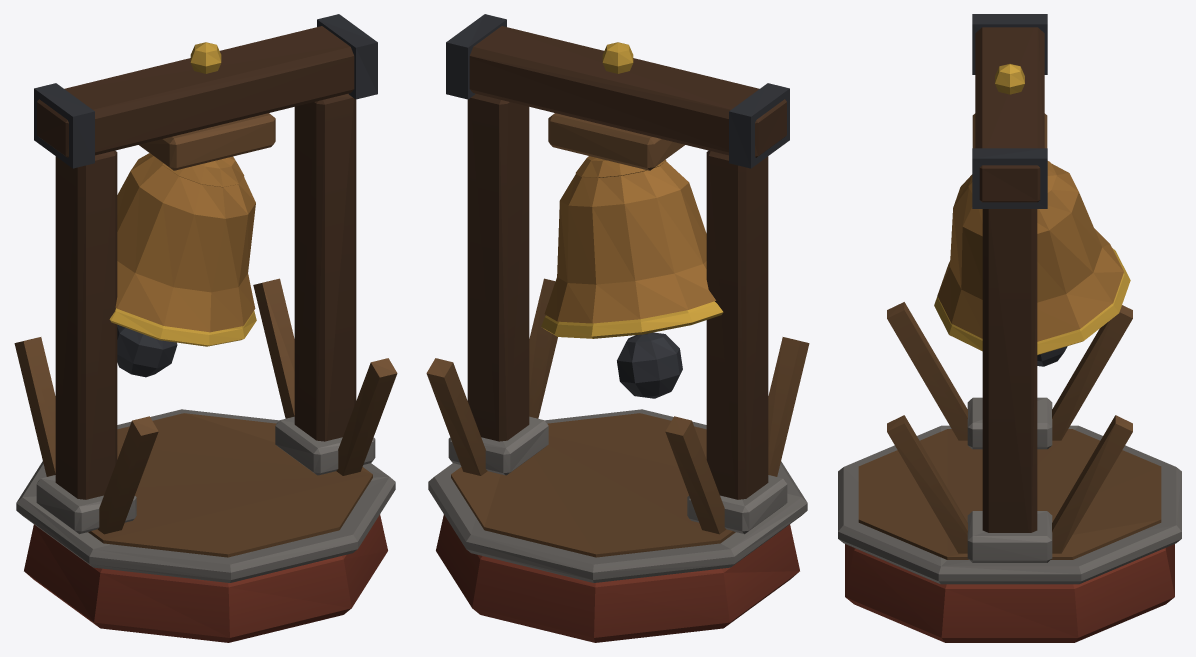
The model's file is clapper_tower.glb.
The picture shows the model from 3 angles, left to right: view 1: azimuth 30°, elevation 25°; view 2: azimuth 150°, elevation 25°; view 3: azimuth 270°, elevation 25°; orthographic projection. The views are drawn at different scales.
Parts seen in each view (by area): view 1: clapper_tower; view 2: clapper_tower; view 3: clapper_tower.
Boxes of the visible parts, left/top/right/bottom form: clapper_tower: left=14, top=14, right=397, bottom=642; clapper_tower: left=426, top=14, right=809, bottom=642; clapper_tower: left=838, top=14, right=1181, bottom=642.
Bounding box in the file's own units: 0.7 × 1.14 × 0.6929.
